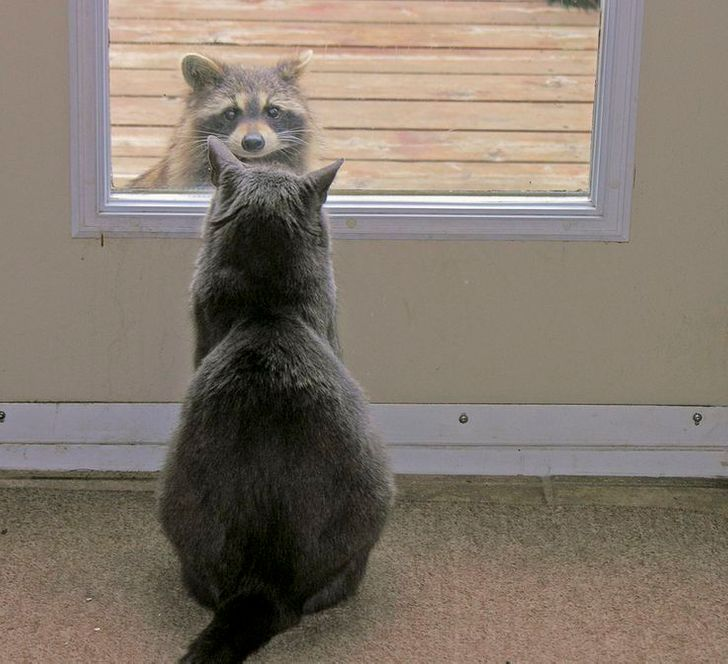raccoon: (173, 42, 311, 182)
